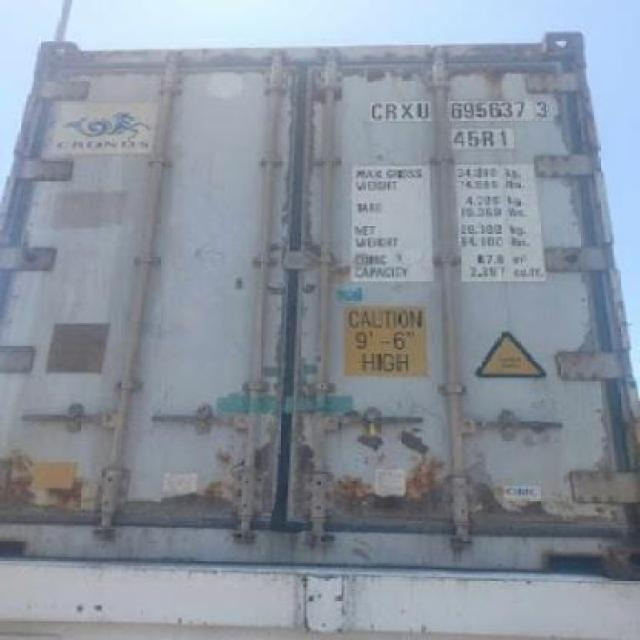ISO: (451, 124, 514, 152)
container_number: (376, 100, 556, 120)
